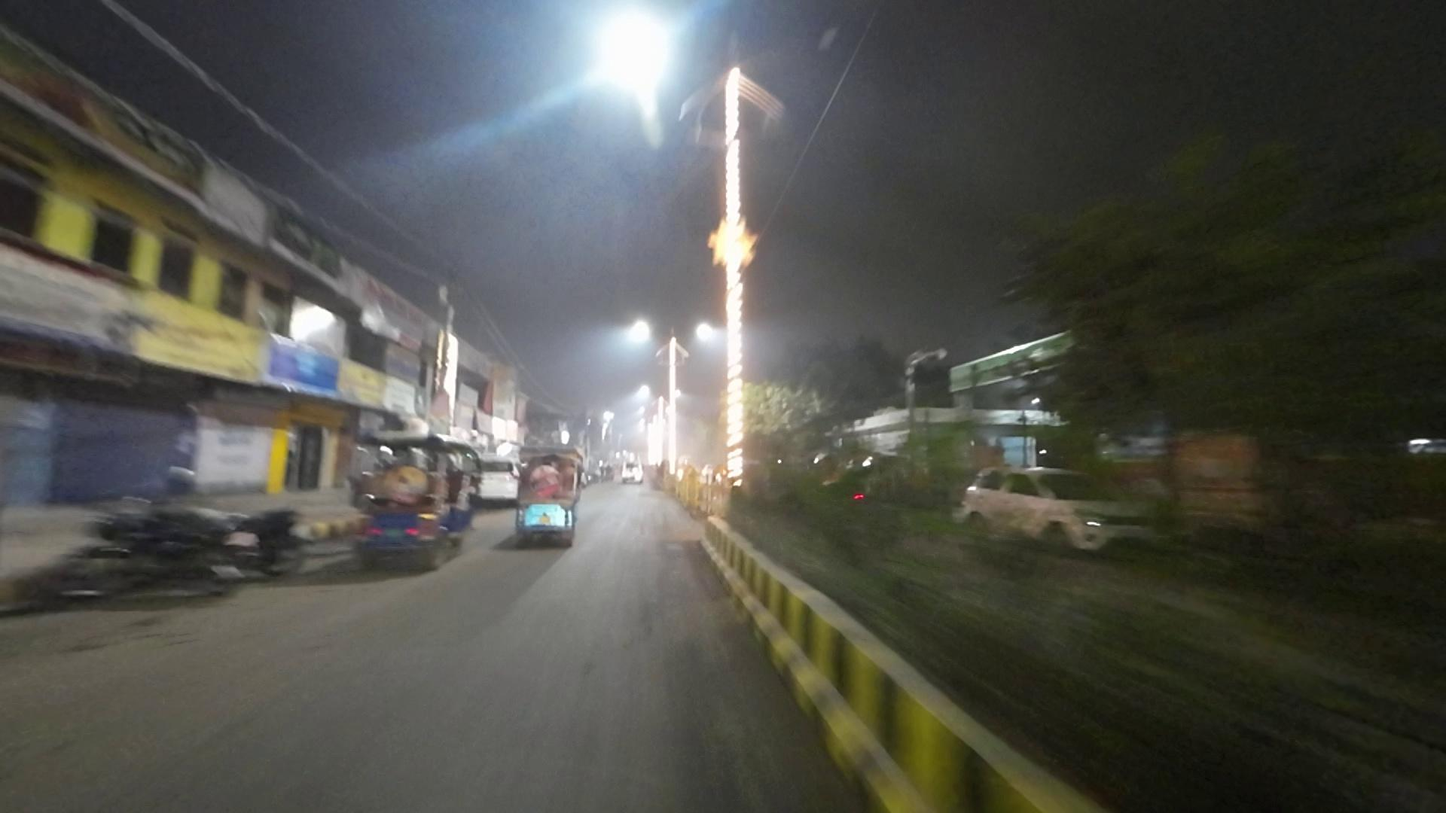streetlight: (760, 21, 845, 61)
